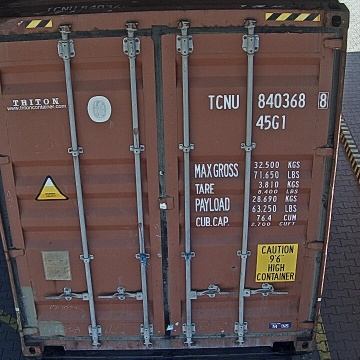serial_id: (208, 93, 328, 109)
